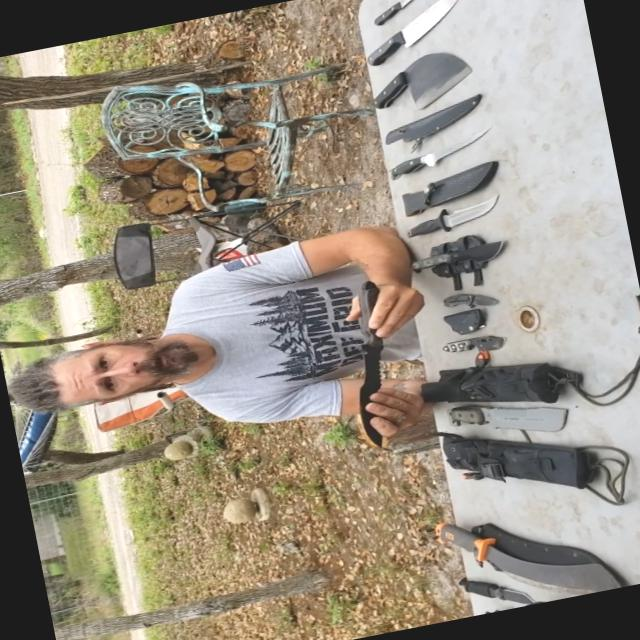knife: (421, 483, 639, 622), (327, 270, 414, 456), (436, 371, 588, 463), (354, 37, 476, 115), (343, 0, 483, 65), (391, 186, 515, 250), (436, 560, 538, 620), (388, 129, 491, 188), (396, 230, 512, 280), (430, 324, 520, 364), (426, 281, 509, 320), (362, 0, 446, 22)
